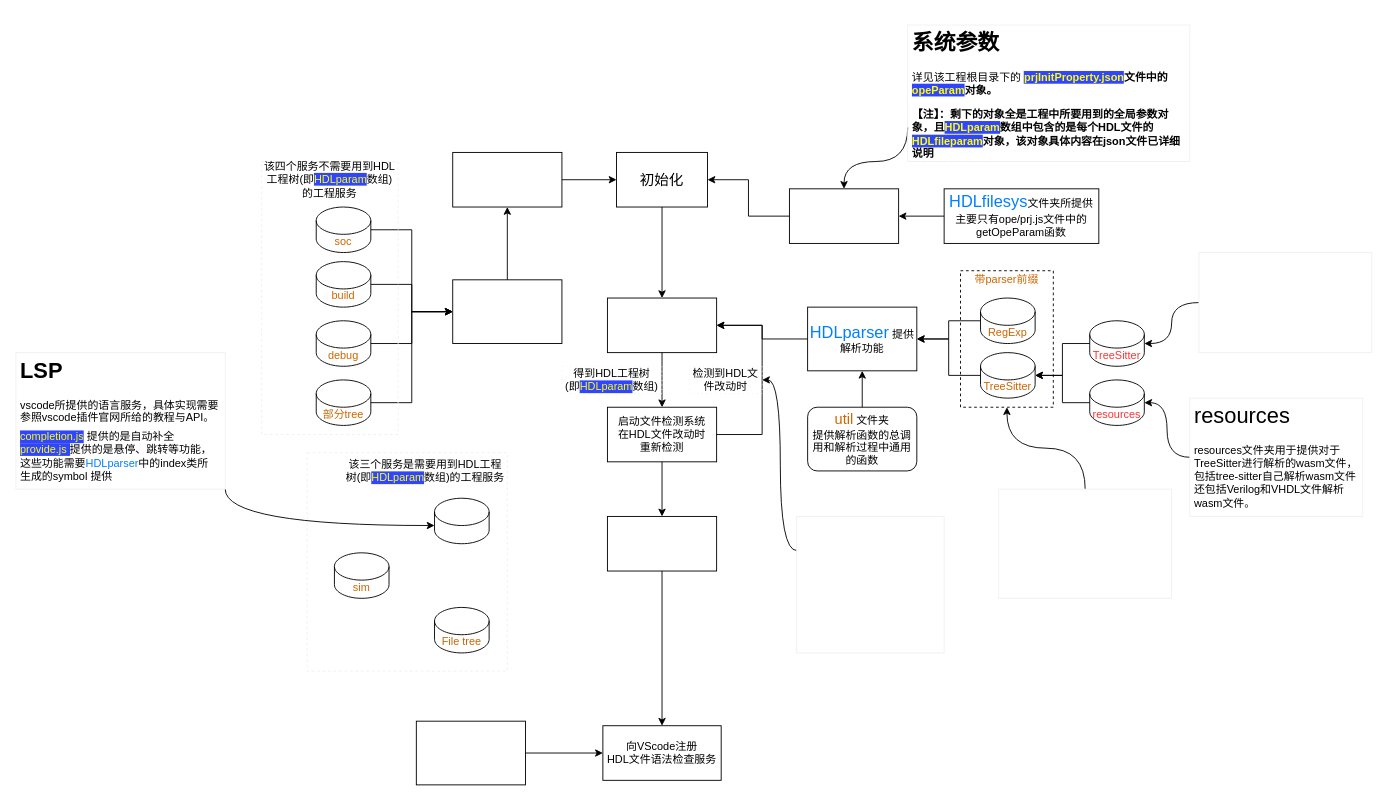
Some shapes in this 1388 by 801 pixel diagram are drawn without their labels. The shapes that lost their labels are listed below. From the top down, each one's centre as x and y in pixels, then its label:
the point at 507,179: 向VScode注册 基础服务
the point at 844,215: 首先获取 系统参数
the point at 507,311: HDLtool 提供工程所需的服务 （除语法检测）
the point at 1285,302: TreeSitter tree-sitter文件夹用于提供 TreeSitter源码，工程开源于github该源码已加密打包。
the point at 662,325: 对工程中所有HDL文件进行检索解析
the point at 461,520: lsp
the point at 662,543: 向VScode注册 其他需要HDL文件信息的工具服务
the point at 1085,543: Parser 解析方案目前提供两种，目前发布的是使用的正则表达式准备换成使用tree-sitter的方案，但需要检测tree-sitter的性能。
the point at 870,584: 工程参数刷新 目前所执行的方案是检测到有HDL文件有变动就对该工程下所有HDL文件全部重新检测（即index.build()函数）再重新生成结构树。后期需要优化
the point at 470,752: HDLlinter 提供HDL文件的语法检测服务
